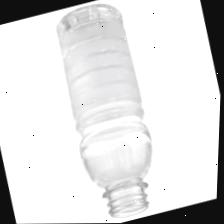plastic: (54, 3, 154, 220)
